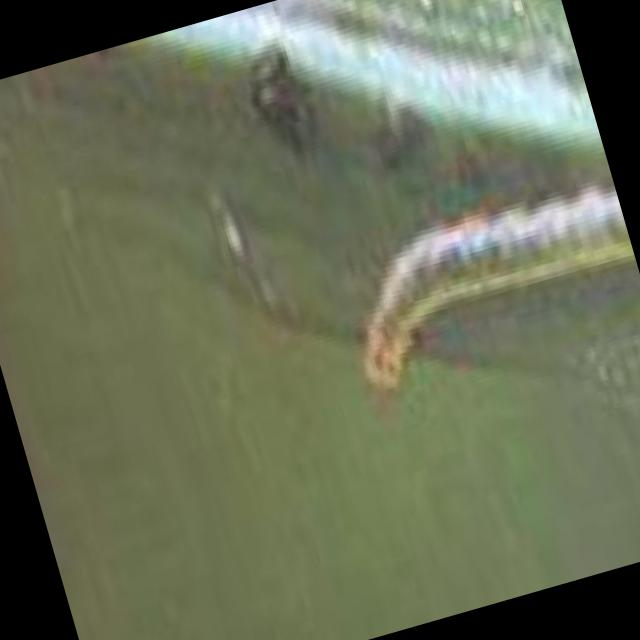leaf-folder: (314, 131, 640, 421)
